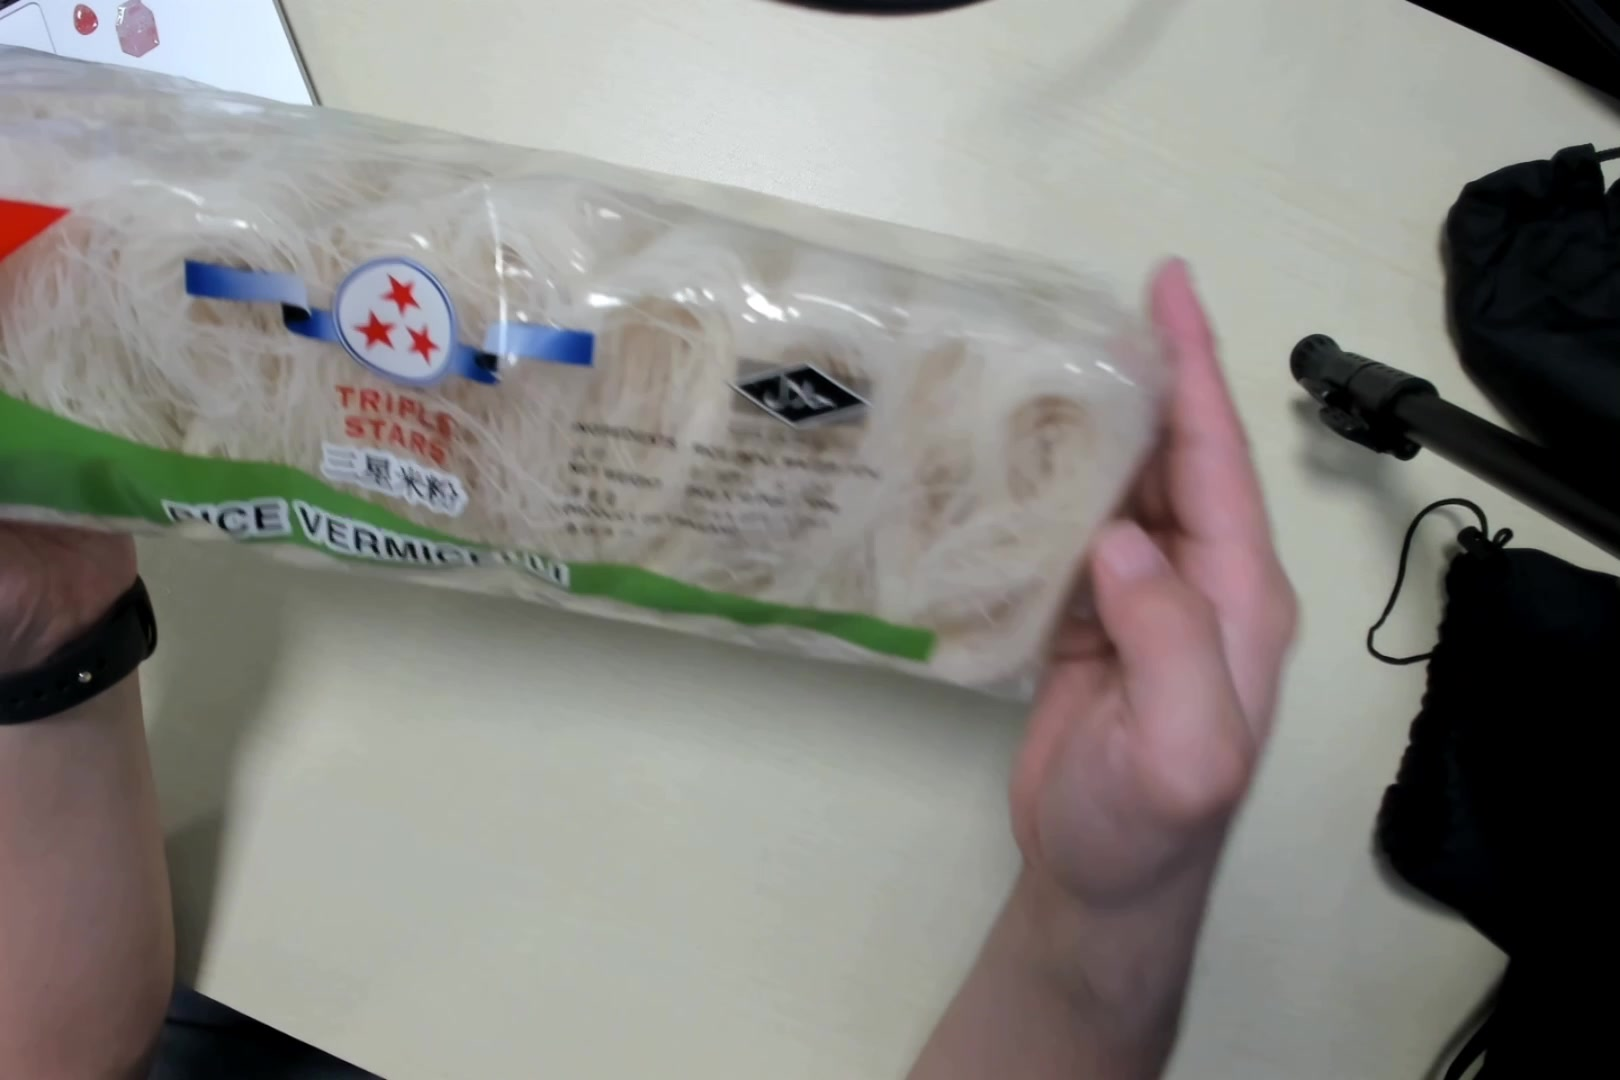BeeHoonVermicelliMeeSua_600-699g_Halal_NonHealthy: (1, 72, 1144, 694)
